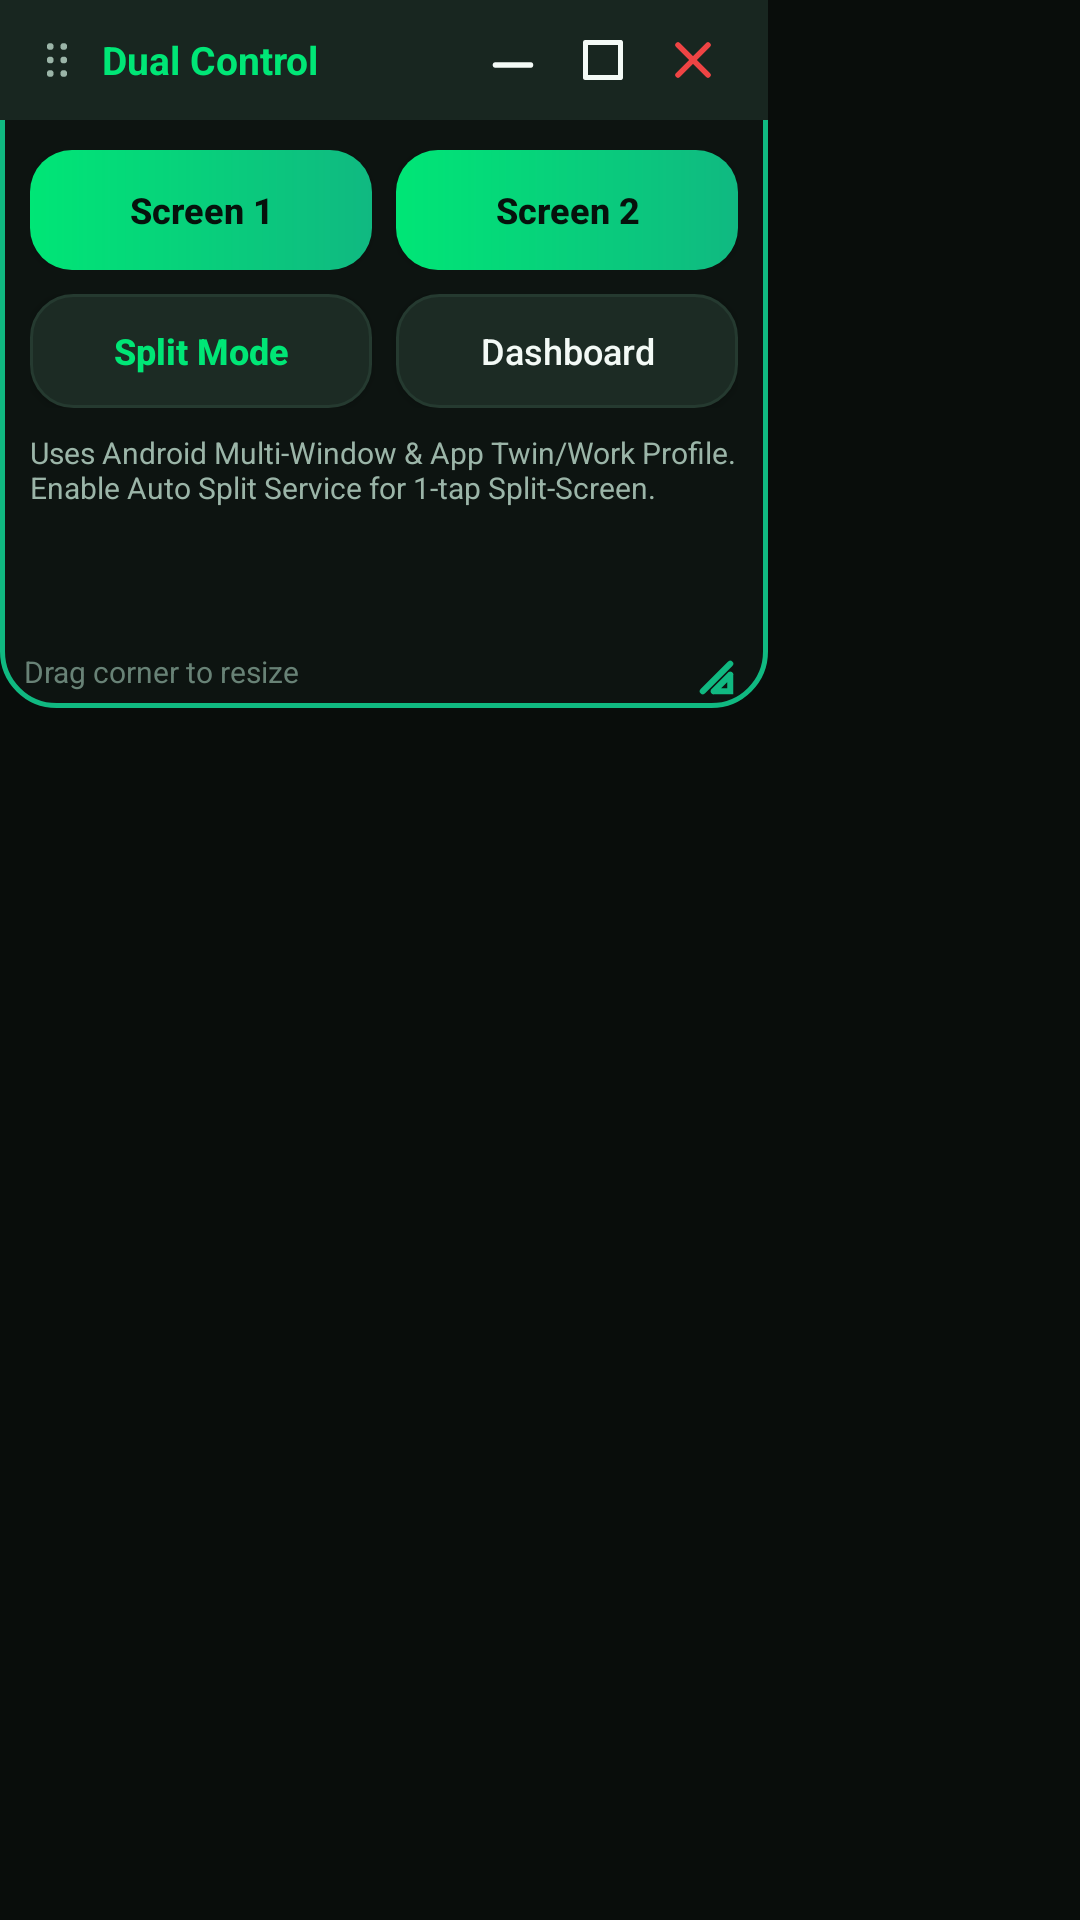

Named icons in this screenshot (1080px×1920px) and their centers, (x=x, y=y):
Close: (x=693, y=60)
Drag: (x=57, y=60)
Maximize: (x=603, y=60)
